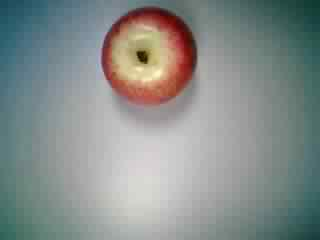apple: (98, 5, 202, 109)
